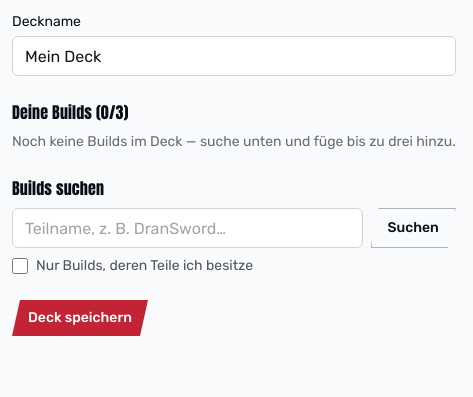
DeckBuilder — Speichern-Feedback (#164) › zeigt bei einem Fehler die Fehlermeldung, NICHT "Gespeichert."
Click the button "Deck speichern": [80, 318] box [12,300,148,336]
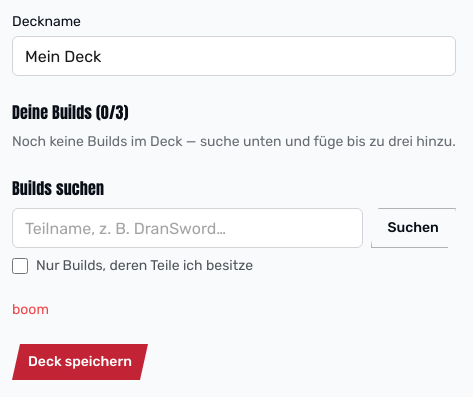
Result: the message "boom" is shown at [12,301,49,318]
